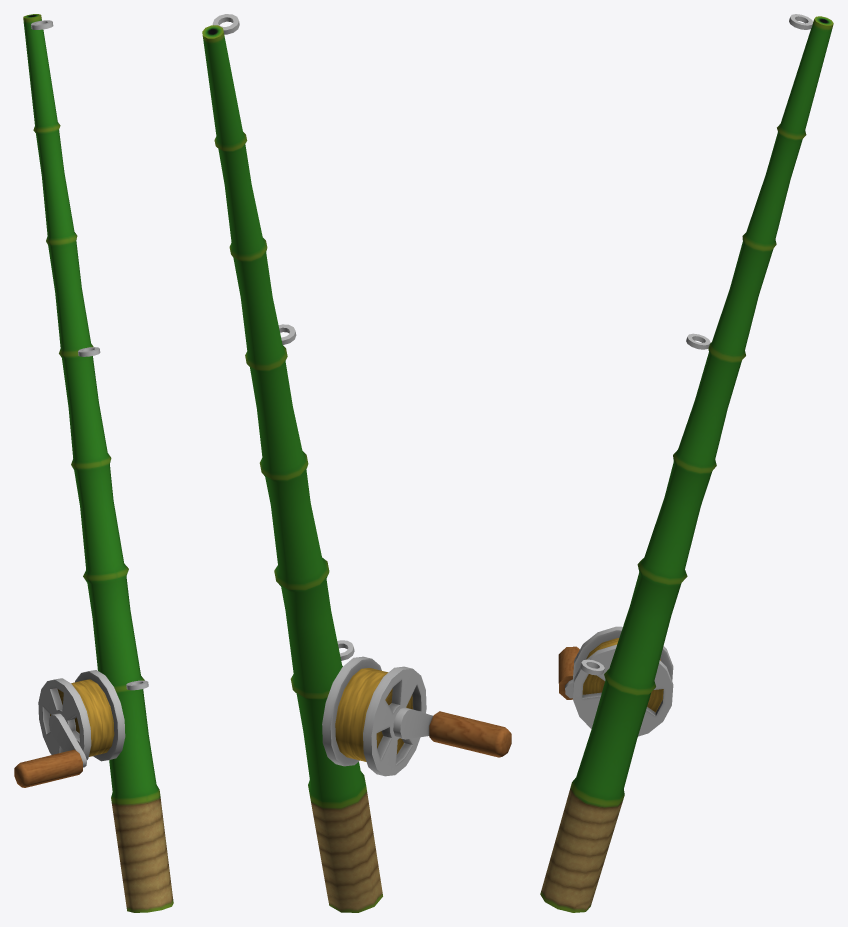
The model's file is Agent_Handheld_FishingRod 1.fbx.
3 views of the same model, side by side, from view 1: azimuth 30°, elevation 25°; view 2: azimuth 150°, elevation 25°; view 3: azimuth 270°, elevation 25° (orthographic). The views are drawn at different scales.
Visible parts, largest first — view 1: FishingRod_LV2; view 2: FishingRod_LV2; view 3: FishingRod_LV2.
Part boxes in pixels (x1,y1,x2,y2): FishingRod_LV2: (14, 14, 173, 912); FishingRod_LV2: (202, 14, 511, 912); FishingRod_LV2: (540, 14, 833, 912).
Size of the model in its own units: 0.3152 by 1.64 by 0.4902.
